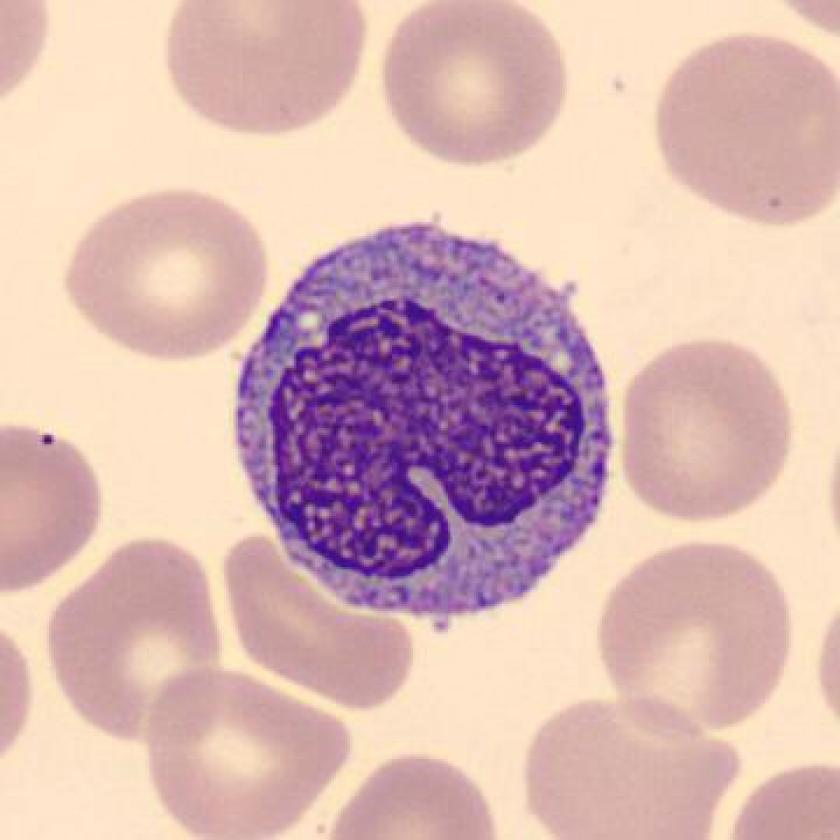monocyte: (216, 198, 626, 647)
